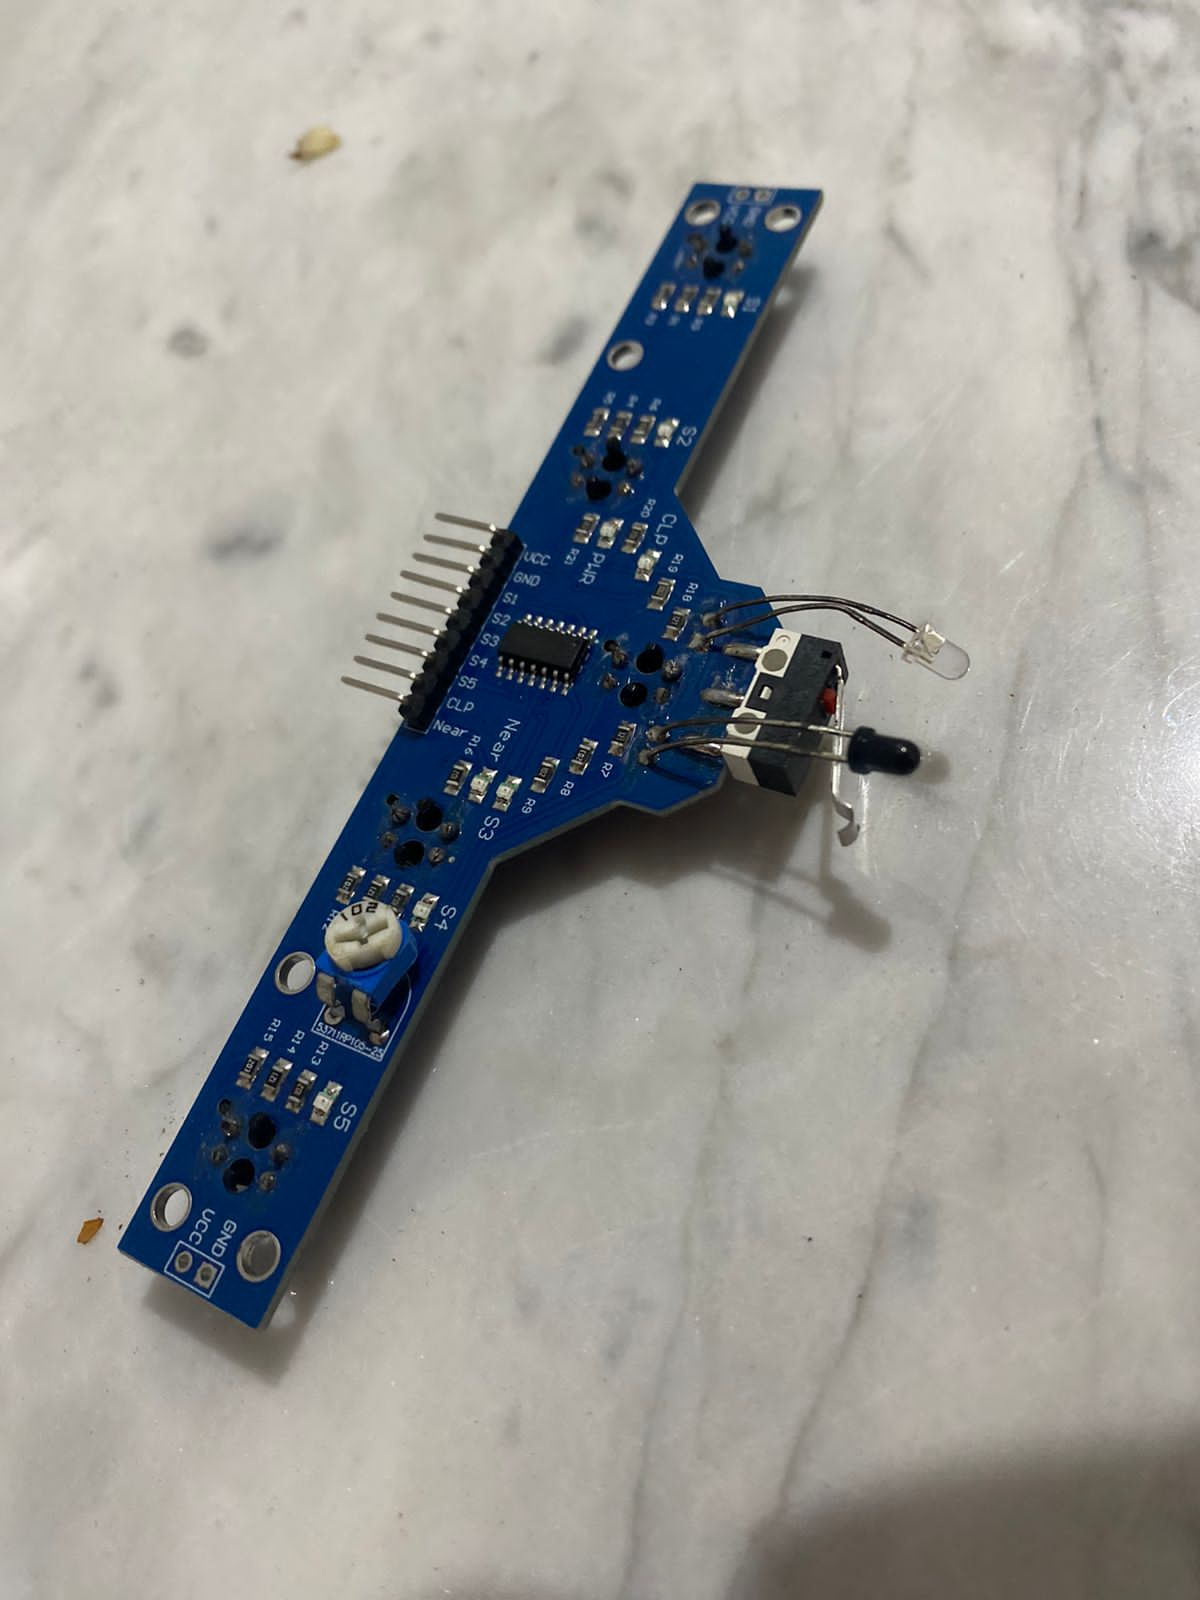Capteur-IR-5 Voies: (116, 106, 977, 1363)
